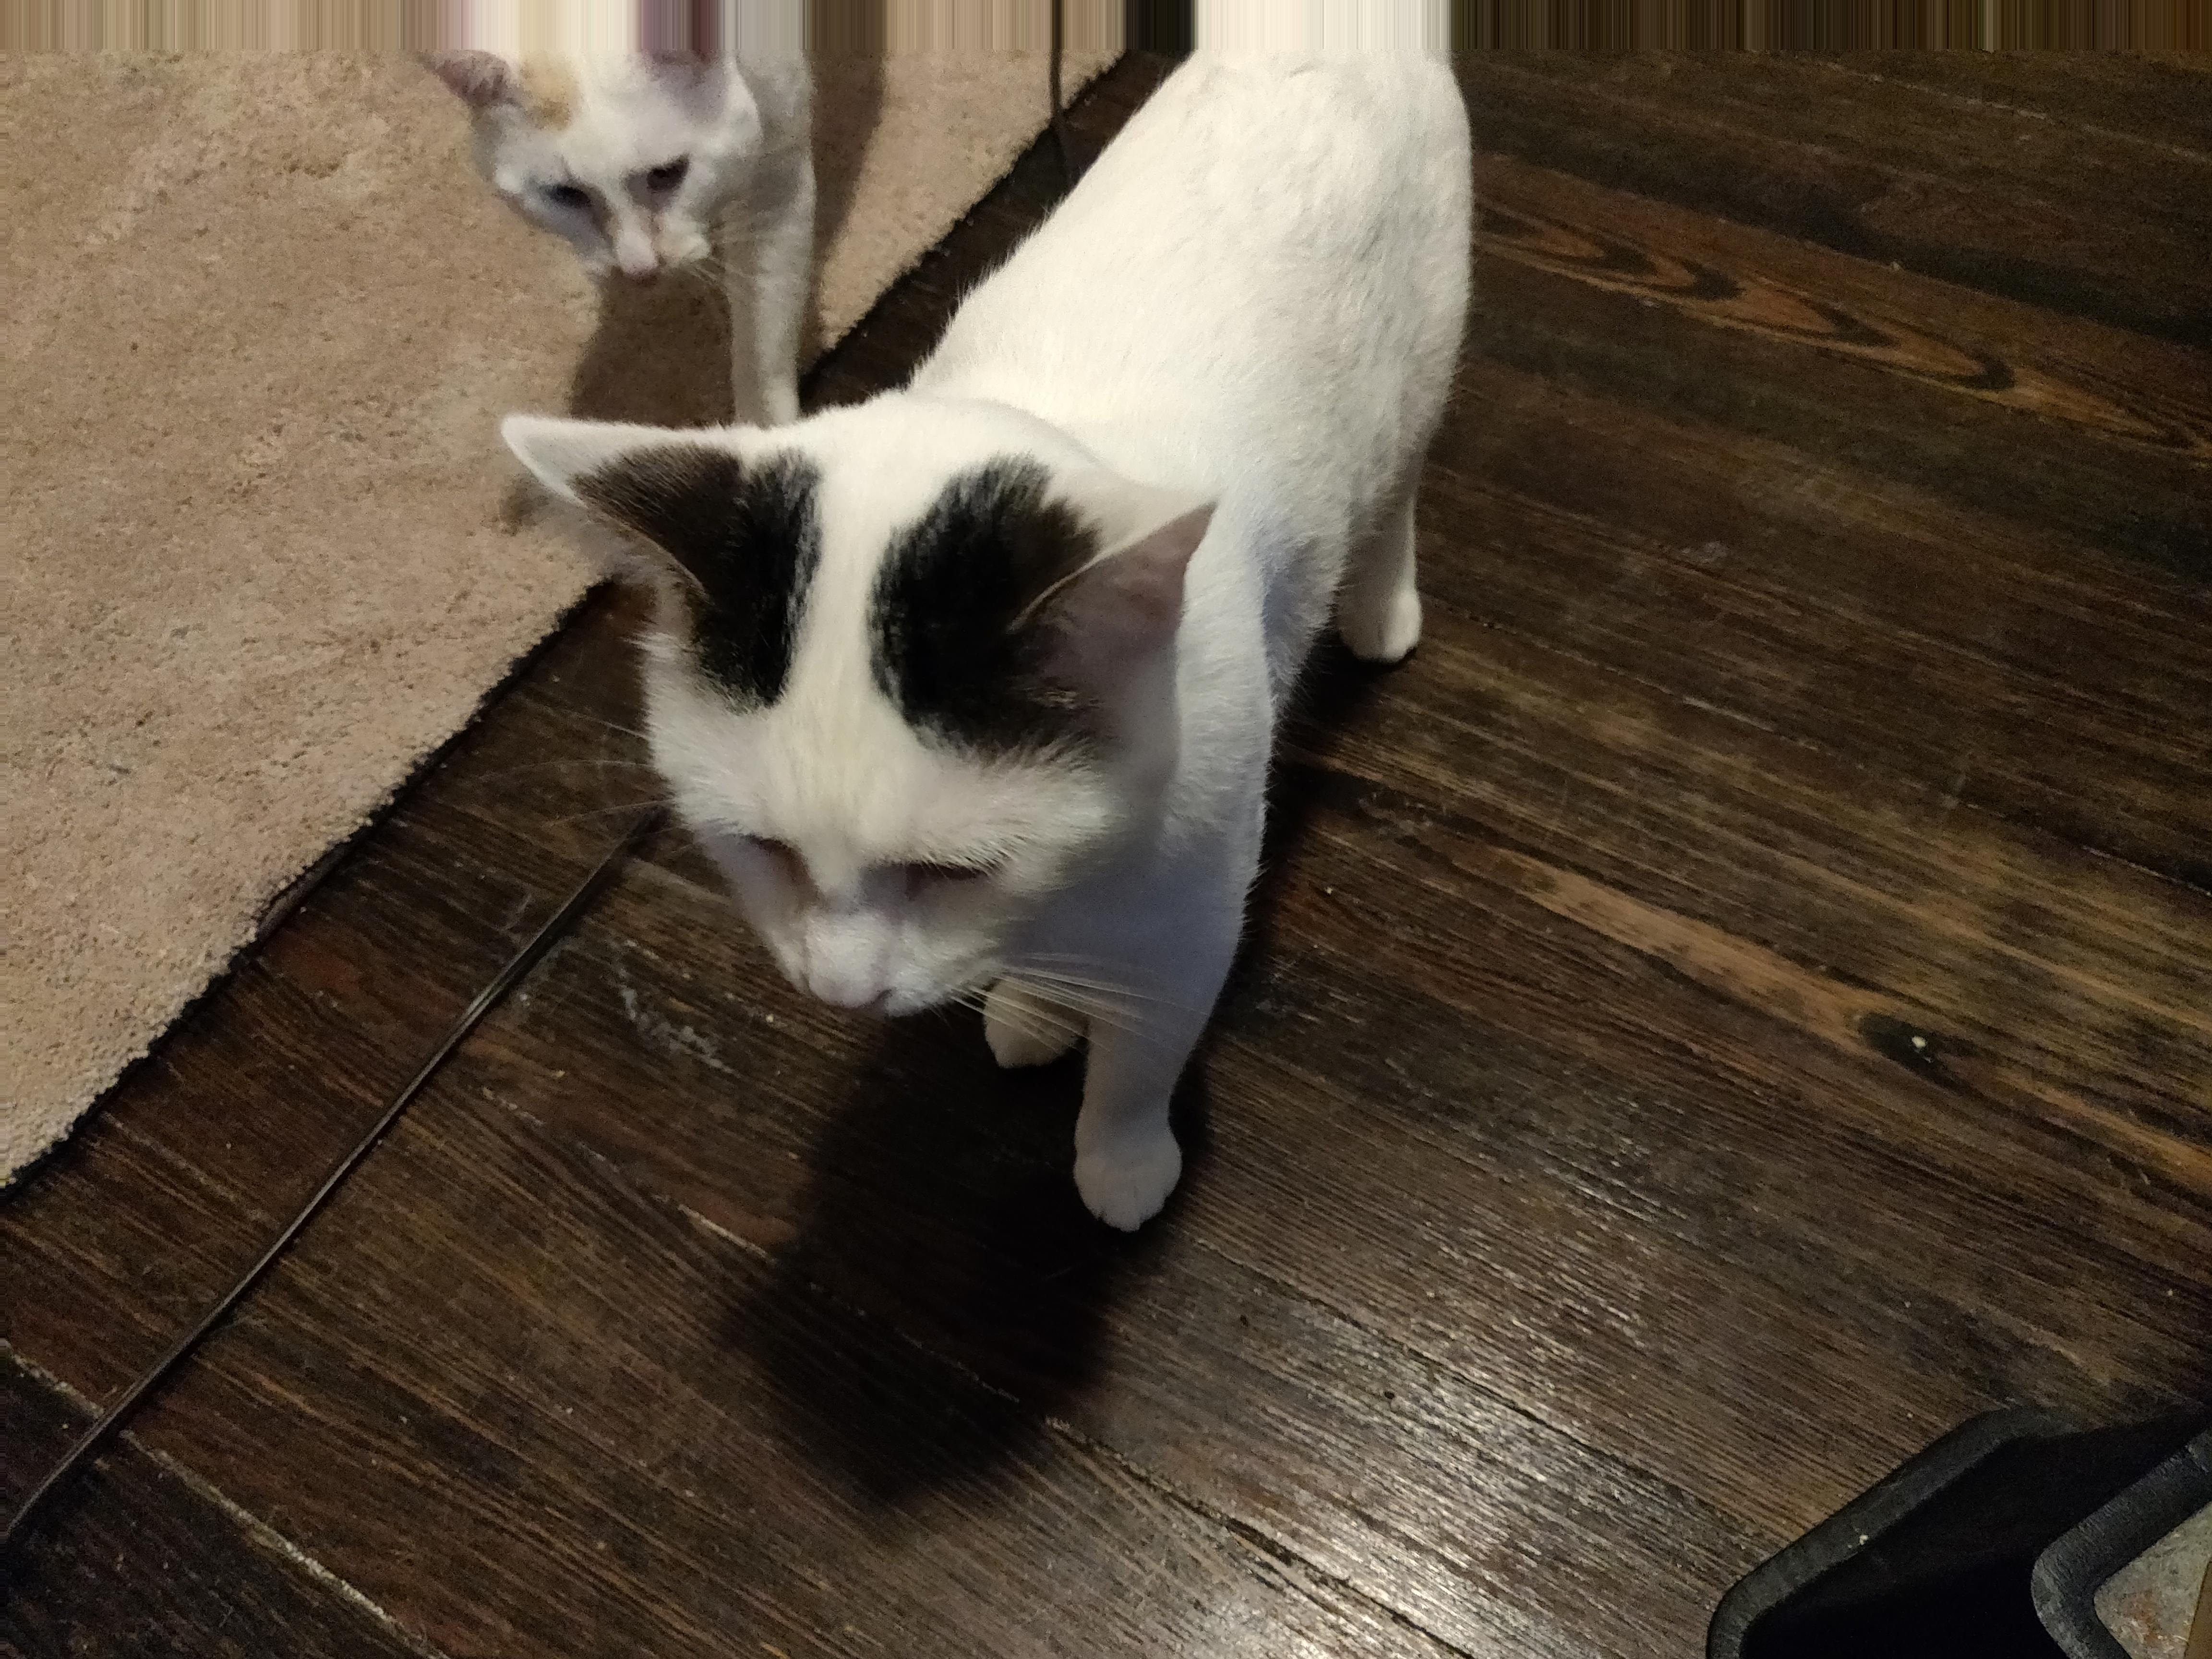cat: (409, 15, 1479, 1220)
